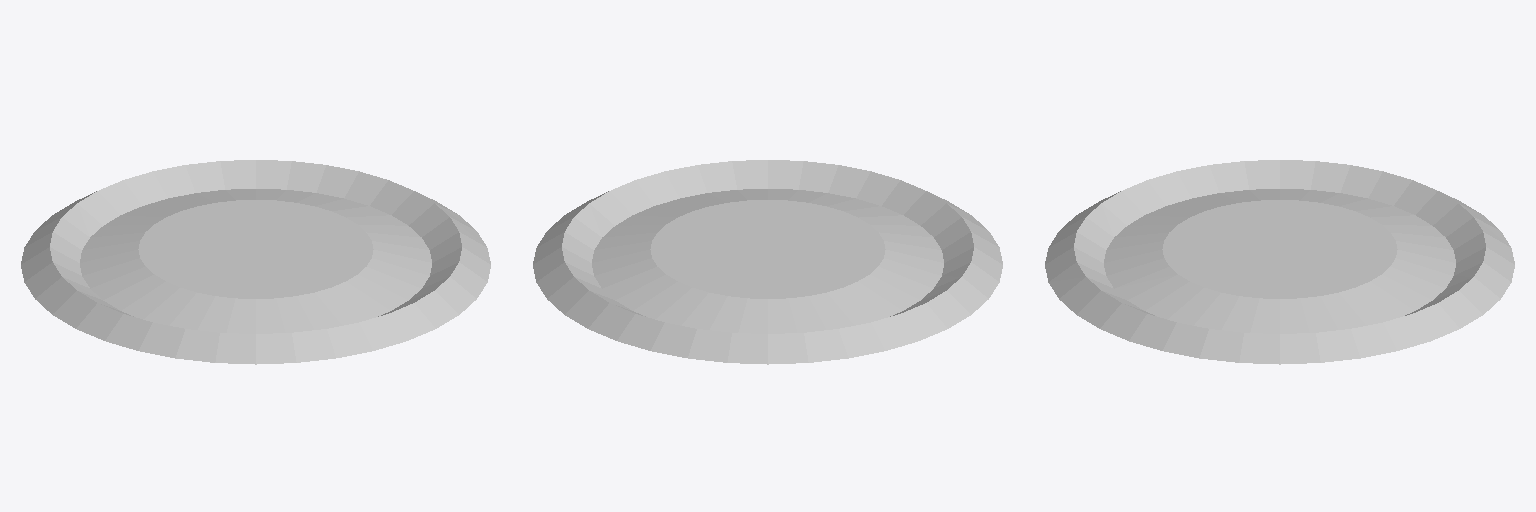
Rendered from dufftop_004.obj.
3 views of the same model, side by side, from view 1: azimuth 30°, elevation 25°; view 2: azimuth 150°, elevation 25°; view 3: azimuth 270°, elevation 25° (orthographic).
Visible parts, largest first — view 1: dufftop.004; view 2: dufftop.004; view 3: dufftop.004.
Boxes of the visible parts, x1,y1,x2,y2 form: dufftop.004: [21, 160, 490, 364]; dufftop.004: [533, 160, 1002, 364]; dufftop.004: [1045, 160, 1514, 364].
Size of the model in its own units: 173 by 7.39 by 173.